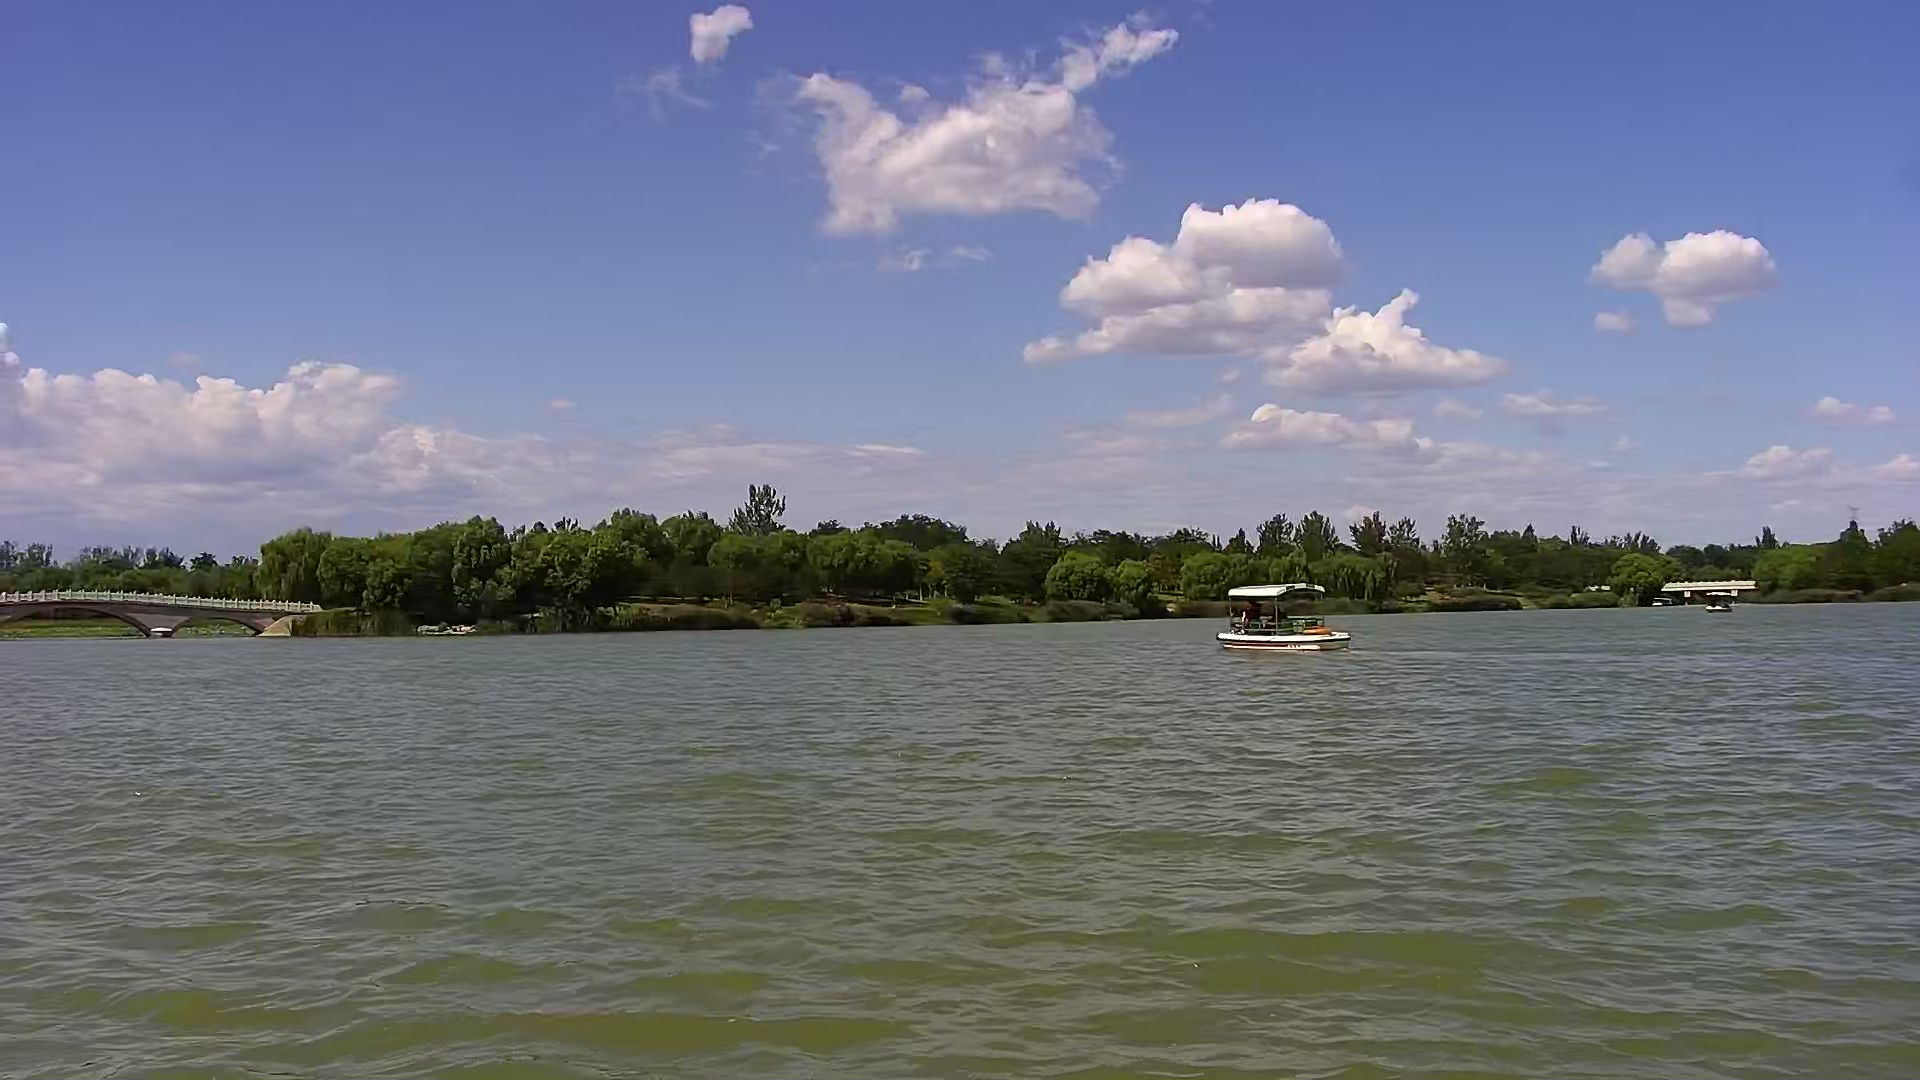boat: (1217, 583, 1349, 651)
bridge: (3, 587, 295, 642), (1663, 578, 1754, 605)
